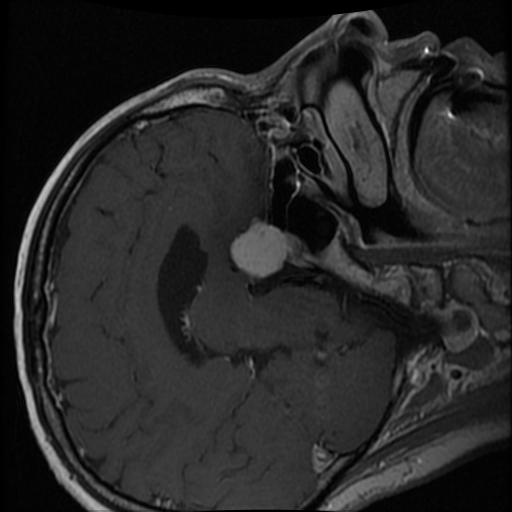meningioma: (230, 219, 288, 278)
